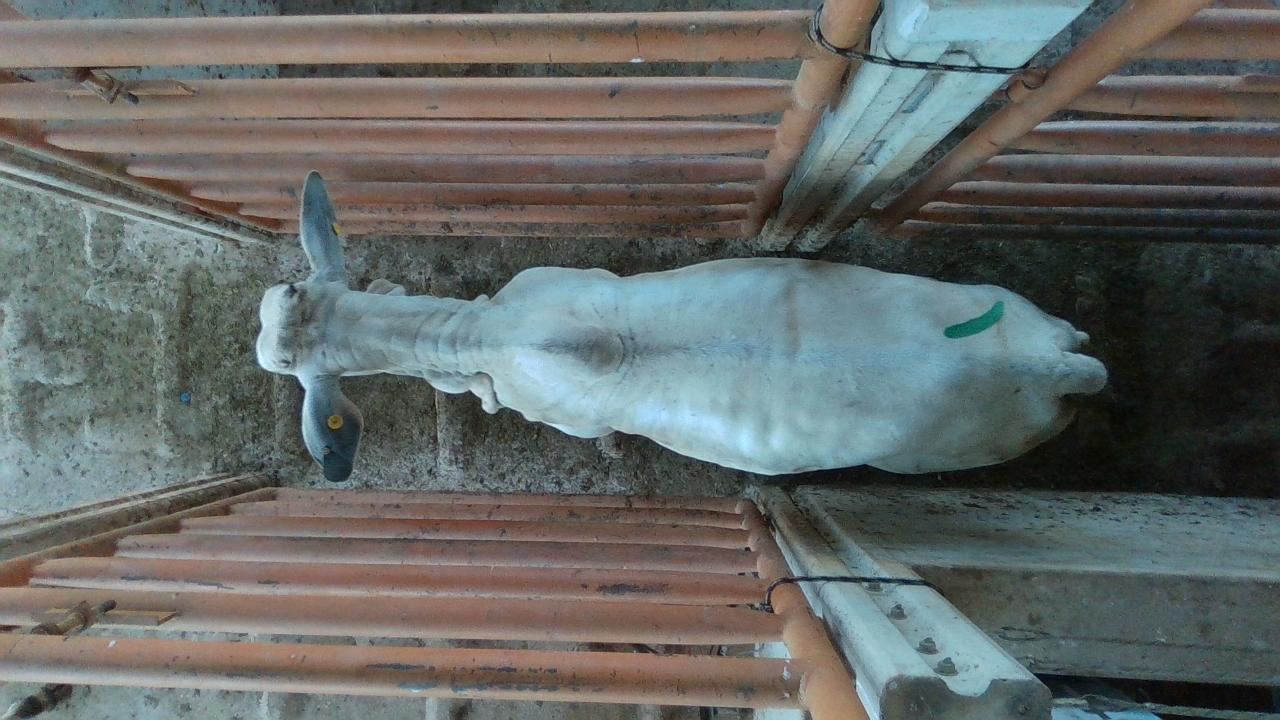cattle: (253, 168, 1109, 480)
